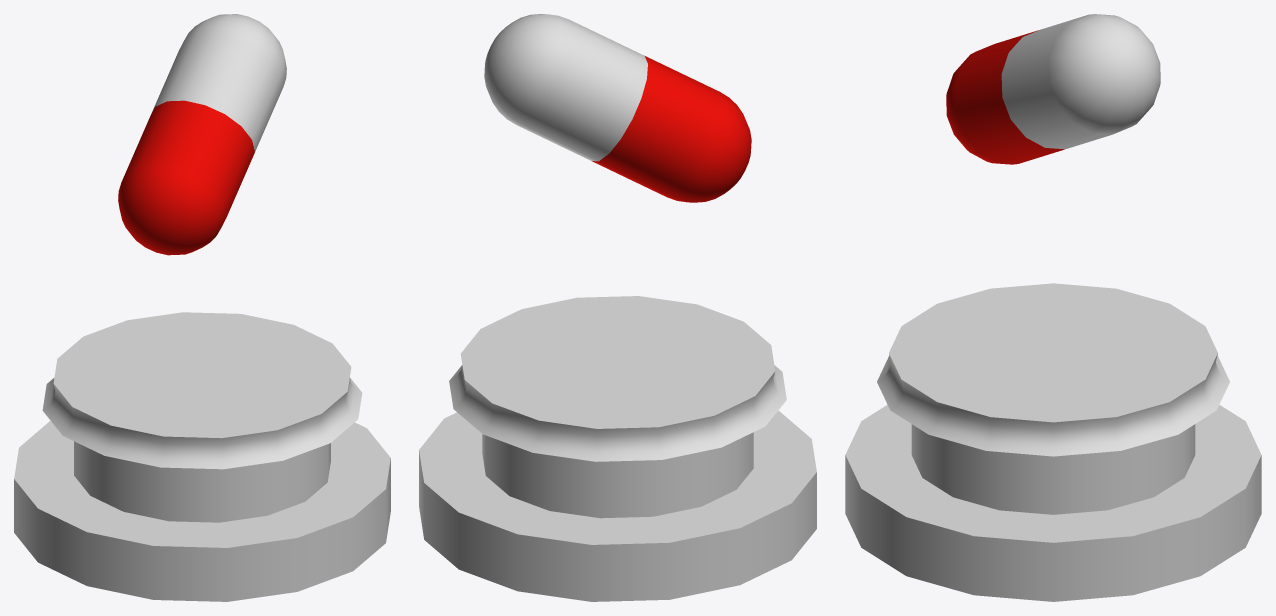
The model's file is Speed_Up.fbx.
The picture shows the model from 3 angles, left to right: view 1: azimuth 30°, elevation 25°; view 2: azimuth 150°, elevation 25°; view 3: azimuth 270°, elevation 25°; orthographic projection. The views are drawn at different scales.
Visible parts, largest first — view 1: Cylinder.001; view 2: Cylinder.001; view 3: Cylinder.001.
Part boxes in pixels (x1,y1,x2,y2): Cylinder.001: (14,14,390,601); Cylinder.001: (419,14,816,601); Cylinder.001: (845,14,1261,601).
Size of the model in its own units: 197 by 272 by 197.
